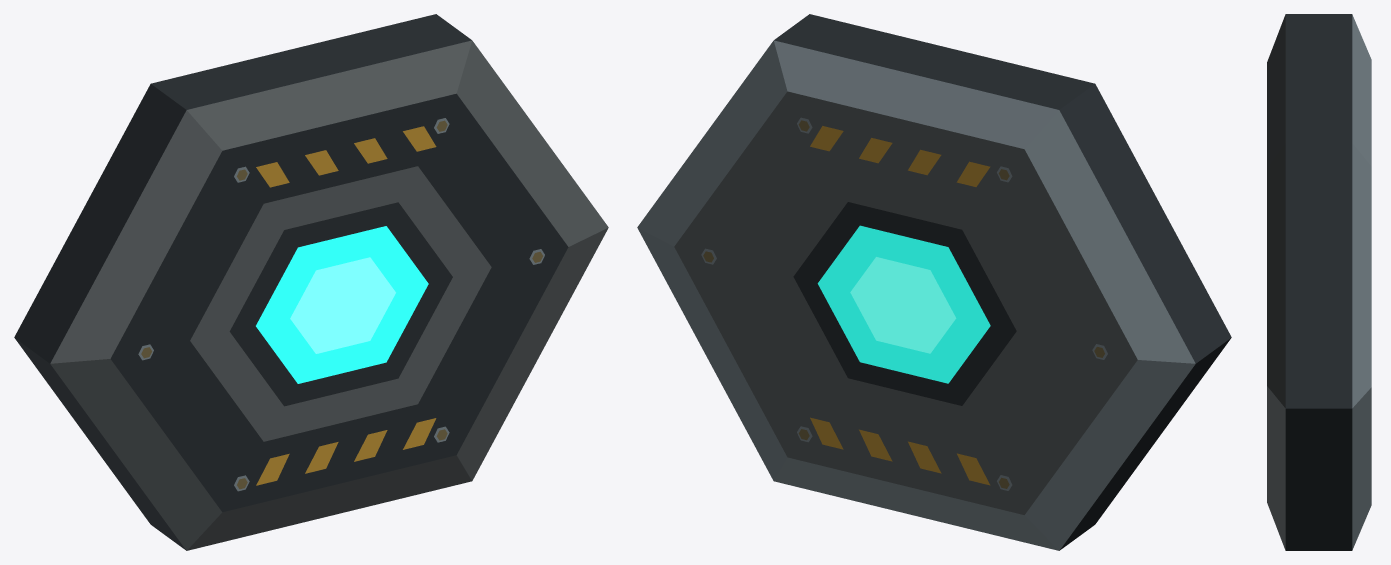
Rendered from ballast-mine.glb.
3 views of the same model, side by side, from view 1: azimuth 30°, elevation 25°; view 2: azimuth 150°, elevation 25°; view 3: azimuth 270°, elevation 25° (orthographic). The views are drawn at different scales.
Visible parts, largest first — view 1: Ballast_Mine; view 2: Ballast_Mine; view 3: Ballast_Mine.
Boxes of the visible parts, x1,y1,x2,y2 form: Ballast_Mine: (14, 14, 608, 550); Ballast_Mine: (637, 14, 1231, 550); Ballast_Mine: (1267, 14, 1371, 550).
Bounding box in the file's own units: 0.708 × 0.534 × 0.138.
